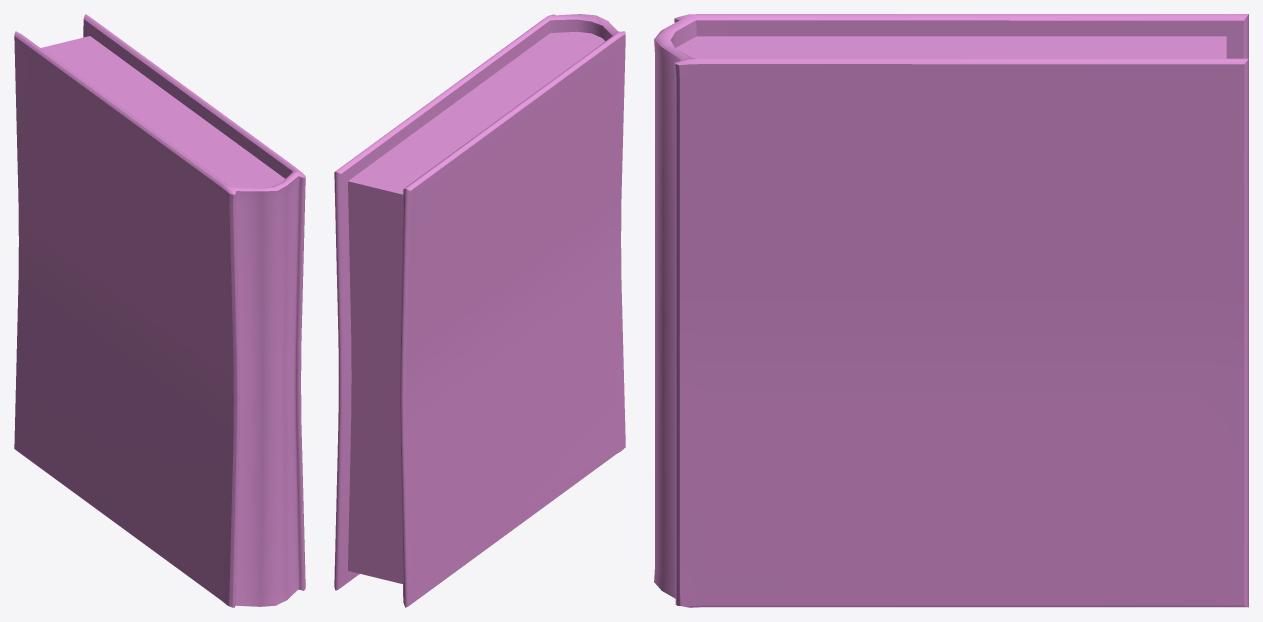
File: HD_Book_S.fbx
The picture shows the model from 3 angles, left to right: view 1: azimuth 30°, elevation 25°; view 2: azimuth 150°, elevation 25°; view 3: azimuth 270°, elevation 25°; orthographic projection. The views are drawn at different scales.
Visible parts, largest first — view 1: HD_Book_XS; view 2: HD_Book_XS; view 3: HD_Book_XS.
Boxes of the visible parts, x1=… form: HD_Book_XS: x1=14, y1=14, x2=305, y2=607; HD_Book_XS: x1=334, y1=14, x2=625, y2=607; HD_Book_XS: x1=654, y1=14, x2=1248, y2=607.
Bounding box in the file's own units: 0.039 × 0.2042 × 0.2004.
